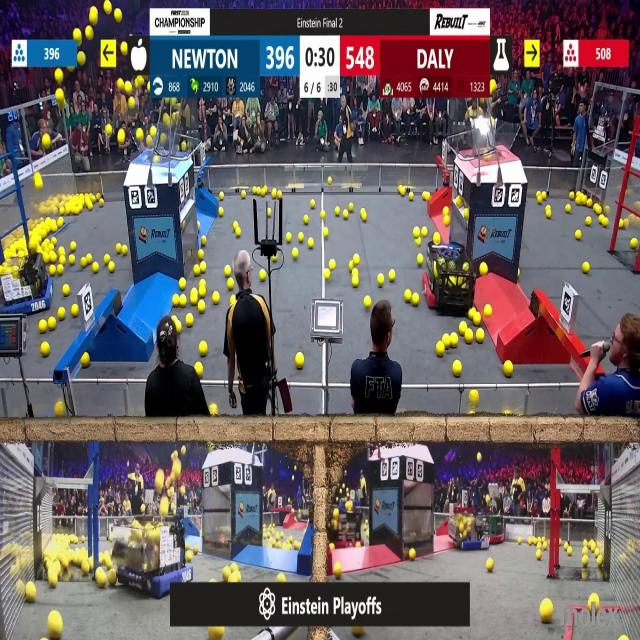ball_airborne: (172, 460, 182, 478), (157, 471, 166, 489), (162, 498, 170, 515), (34, 174, 43, 189), (91, 8, 99, 24), (42, 134, 50, 149), (86, 27, 95, 40), (56, 69, 64, 83), (57, 90, 65, 104), (104, 0, 112, 14), (114, 8, 121, 22), (77, 53, 84, 67), (117, 131, 124, 144), (129, 98, 136, 110), (137, 130, 144, 142), (126, 81, 133, 93), (120, 42, 127, 54), (74, 29, 81, 41), (136, 76, 144, 86), (164, 113, 171, 124), (116, 78, 123, 88), (490, 79, 496, 90), (172, 452, 179, 461), (146, 136, 152, 146), (106, 126, 112, 136), (140, 503, 146, 513), (180, 144, 187, 152), (161, 134, 167, 143), (180, 447, 186, 456), (475, 453, 481, 462), (150, 128, 155, 137), (169, 488, 174, 497), (180, 487, 185, 495), (172, 98, 177, 106), (152, 155, 158, 161)
ball_ground: (50, 614, 64, 639), (540, 600, 552, 622), (27, 585, 37, 604), (97, 570, 108, 587), (47, 571, 57, 587), (503, 360, 512, 376), (56, 404, 66, 418), (295, 352, 303, 368), (335, 562, 343, 578), (41, 342, 49, 357), (81, 352, 89, 367), (454, 360, 462, 375), (200, 342, 208, 357), (194, 362, 202, 376), (108, 570, 116, 584), (188, 291, 197, 303), (465, 332, 473, 345), (412, 292, 420, 305), (477, 331, 485, 344), (438, 343, 445, 357), (486, 560, 494, 572), (210, 406, 218, 418), (47, 318, 55, 330), (212, 292, 220, 304), (484, 306, 492, 318), (472, 314, 480, 326), (468, 390, 476, 402), (459, 321, 466, 334), (222, 567, 229, 580), (81, 562, 88, 575), (278, 571, 286, 582), (172, 294, 180, 305), (451, 335, 458, 347), (179, 278, 186, 290), (481, 264, 488, 276), (59, 308, 66, 320), (199, 302, 206, 314), (410, 550, 417, 562), (186, 314, 193, 326), (39, 321, 46, 333), (179, 294, 186, 306), (378, 274, 385, 286), (364, 295, 371, 307), (403, 290, 410, 302), (175, 321, 182, 333), (630, 239, 638, 249), (444, 335, 452, 345), (594, 205, 602, 215), (259, 271, 266, 282), (63, 284, 70, 295), (223, 267, 230, 278), (389, 271, 396, 282), (80, 256, 87, 267), (48, 266, 55, 277), (43, 252, 50, 263), (584, 263, 590, 275), (72, 306, 78, 318), (93, 264, 100, 274), (199, 287, 206, 297), (108, 264, 115, 274), (68, 254, 75, 264), (58, 266, 65, 276), (328, 262, 335, 272), (115, 244, 122, 254), (227, 279, 233, 290), (292, 248, 298, 259), (433, 233, 439, 244), (192, 266, 198, 277), (199, 249, 205, 260), (414, 229, 420, 240), (421, 229, 428, 238), (348, 263, 355, 272), (352, 277, 358, 287), (418, 254, 424, 264), (574, 231, 580, 241), (297, 233, 303, 243), (121, 244, 127, 254), (70, 242, 76, 252), (445, 215, 451, 225), (354, 254, 360, 264), (602, 216, 608, 226), (87, 254, 93, 264), (583, 556, 589, 566), (50, 252, 56, 262), (186, 552, 192, 562), (468, 309, 474, 319), (343, 210, 349, 220), (236, 571, 242, 581), (589, 600, 594, 612), (106, 558, 112, 568), (99, 556, 105, 566), (59, 217, 64, 228), (587, 216, 593, 225), (218, 208, 224, 217), (423, 191, 429, 200), (104, 254, 110, 263), (286, 234, 292, 243), (60, 254, 66, 263), (566, 204, 572, 213), (596, 557, 602, 566), (456, 198, 462, 207), (324, 270, 329, 280), (201, 264, 206, 274), (202, 237, 207, 247), (361, 211, 366, 221), (620, 218, 625, 228), (218, 191, 224, 199), (596, 599, 600, 611), (231, 295, 237, 303), (592, 594, 598, 602), (232, 564, 238, 572), (96, 192, 102, 200), (60, 207, 66, 215), (587, 200, 593, 208), (50, 238, 56, 246), (252, 186, 258, 194), (309, 239, 314, 248), (445, 207, 450, 216), (323, 229, 328, 238), (417, 238, 422, 247), (273, 189, 278, 198), (89, 203, 94, 212), (193, 544, 198, 553), (536, 191, 541, 200), (398, 186, 403, 195), (272, 254, 278, 261), (60, 248, 66, 255), (200, 280, 206, 287), (352, 270, 358, 277), (541, 191, 547, 198), (517, 537, 523, 544), (237, 230, 242, 238), (545, 210, 550, 218), (100, 200, 105, 208), (320, 210, 325, 218), (536, 552, 541, 560), (311, 201, 316, 209), (575, 198, 580, 206), (349, 204, 354, 212), (567, 546, 572, 554), (277, 194, 282, 202), (464, 209, 468, 219), (294, 541, 299, 549), (259, 188, 264, 196), (269, 208, 273, 217), (172, 316, 178, 322), (336, 208, 341, 215), (569, 191, 574, 198), (582, 549, 587, 556), (363, 531, 368, 538), (528, 537, 533, 544), (305, 215, 309, 223), (242, 190, 246, 198), (410, 192, 414, 200), (356, 542, 361, 548), (564, 543, 569, 549), (542, 542, 546, 549), (195, 221, 199, 228), (621, 636, 628, 640), (235, 220, 238, 228)
goal: (466, 120, 520, 160)
robot_blue: (112, 519, 192, 600), (1, 254, 53, 316), (448, 513, 488, 550)
robot_red: (606, 512, 640, 631), (424, 242, 474, 314), (330, 505, 364, 548), (482, 514, 506, 544)
